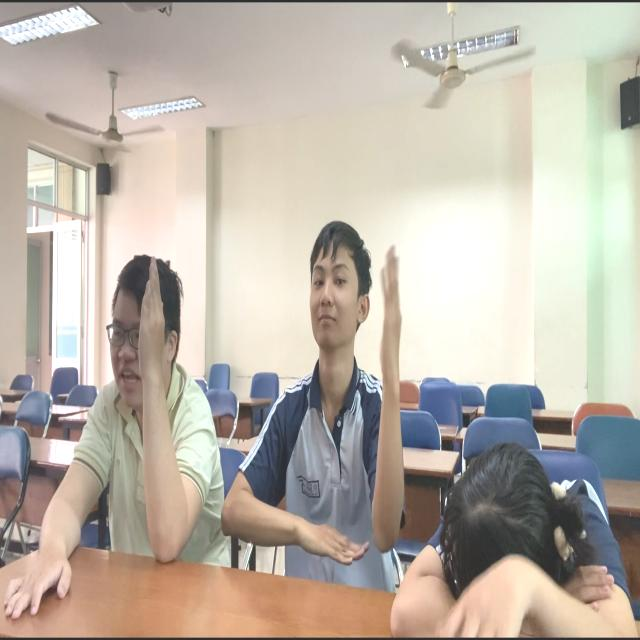raise_hand: (225, 206, 414, 612), (61, 234, 216, 587)
sleep: (405, 427, 640, 640)
